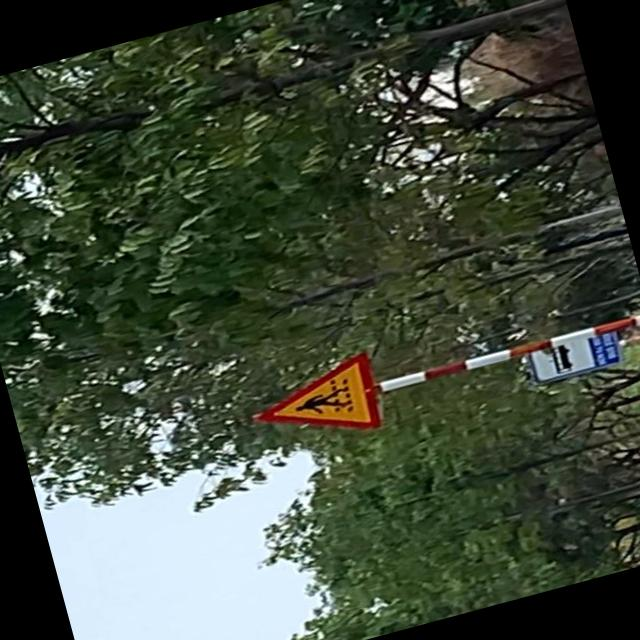W-224: (252, 352, 384, 454)
